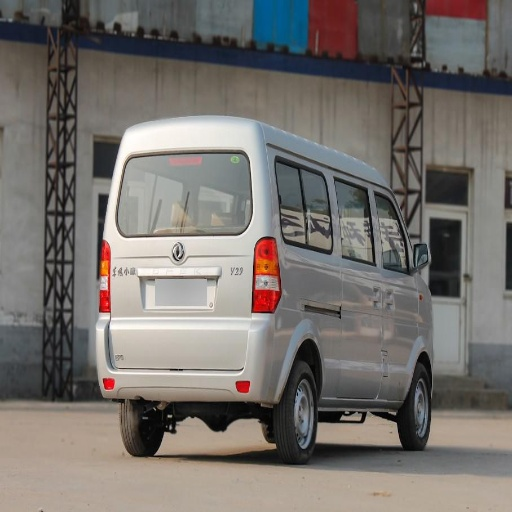back_bumper: (100, 312, 295, 402)
back_right_door: (271, 147, 375, 395)
tailgate: (108, 232, 196, 311)
trunk: (115, 236, 265, 364), (393, 299, 435, 375)
